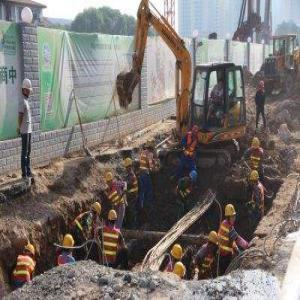blue: (190, 171, 198, 185)
none: (217, 79, 225, 92)
red: (192, 125, 200, 140), (260, 81, 266, 92)
white: (22, 80, 33, 98)
yellow: (171, 244, 183, 266), (174, 264, 187, 284), (208, 231, 219, 253), (227, 205, 237, 226), (25, 244, 36, 262), (64, 236, 75, 253), (92, 203, 103, 220), (108, 211, 119, 228), (105, 172, 115, 189), (123, 157, 133, 174), (250, 172, 260, 189), (252, 139, 262, 153)
